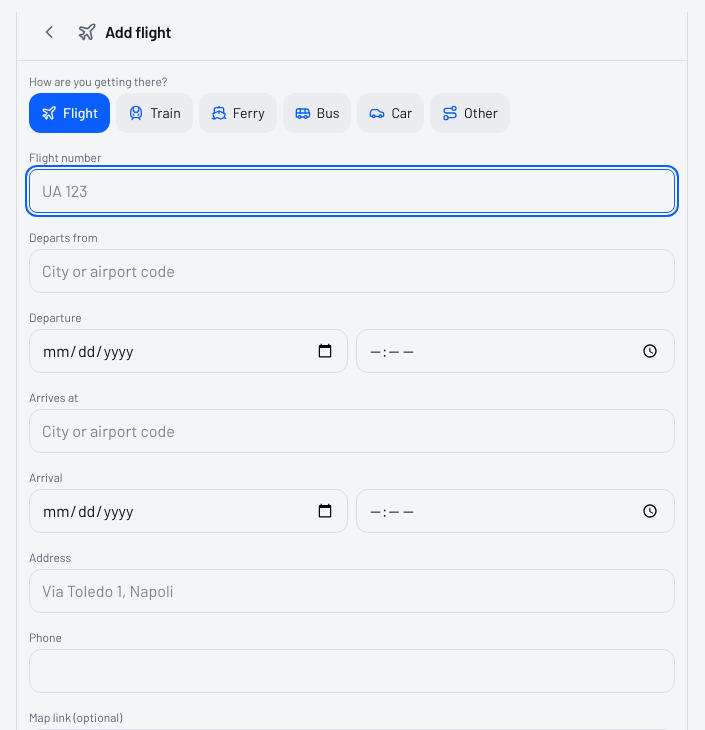
Test: entering a date without a time › shows the time it filled in, so nothing is invented unseen
Type "2026-05-17" into the date field named "Departure date" at {"x": 188, "y": 351}, box [29,329,348,373]
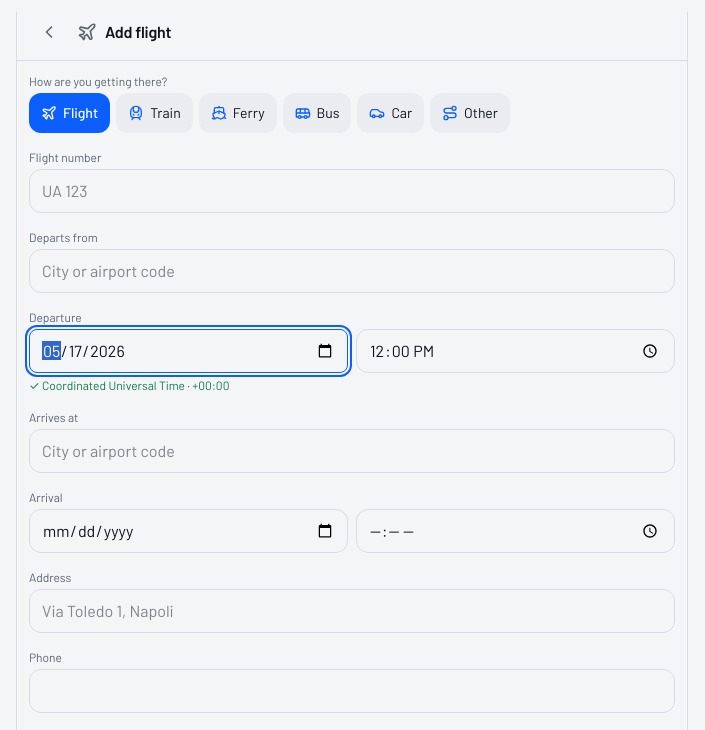
Expected: the time field named "Departure time" holds "12:00", [356,329,675,373]
